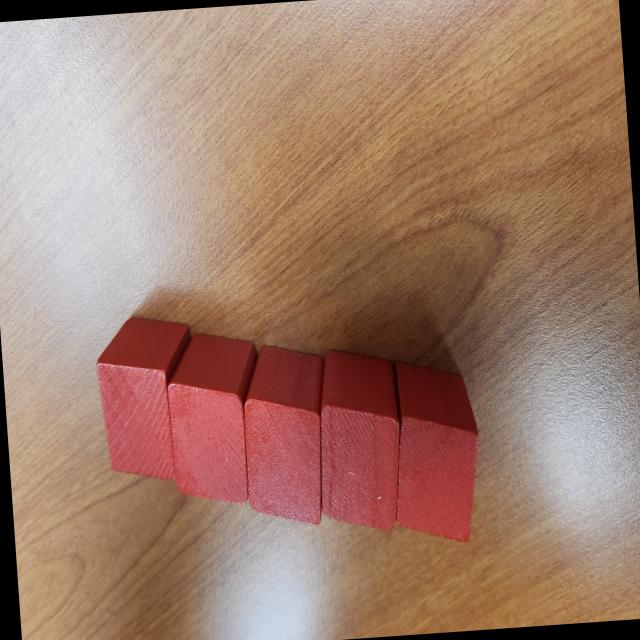red: (384, 357, 486, 551), (164, 327, 268, 512), (92, 313, 202, 487), (309, 344, 408, 536), (238, 338, 336, 530)
